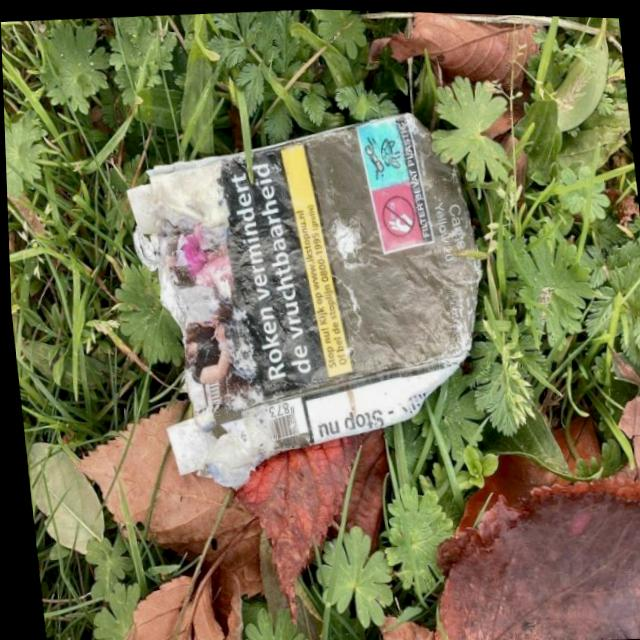Paper: (112, 97, 502, 505)
